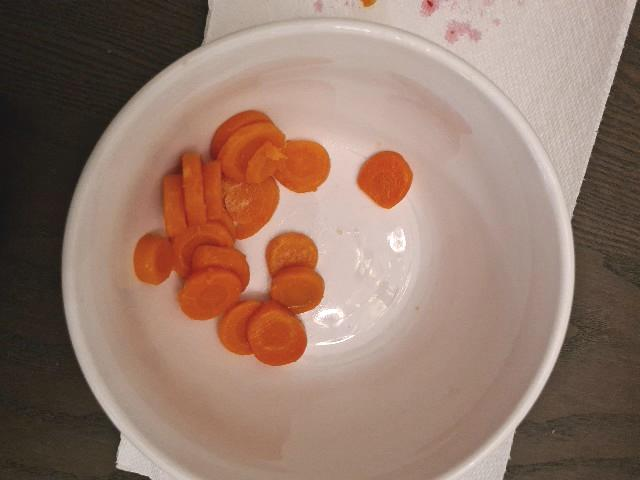kichen waste: (133, 110, 412, 366)
